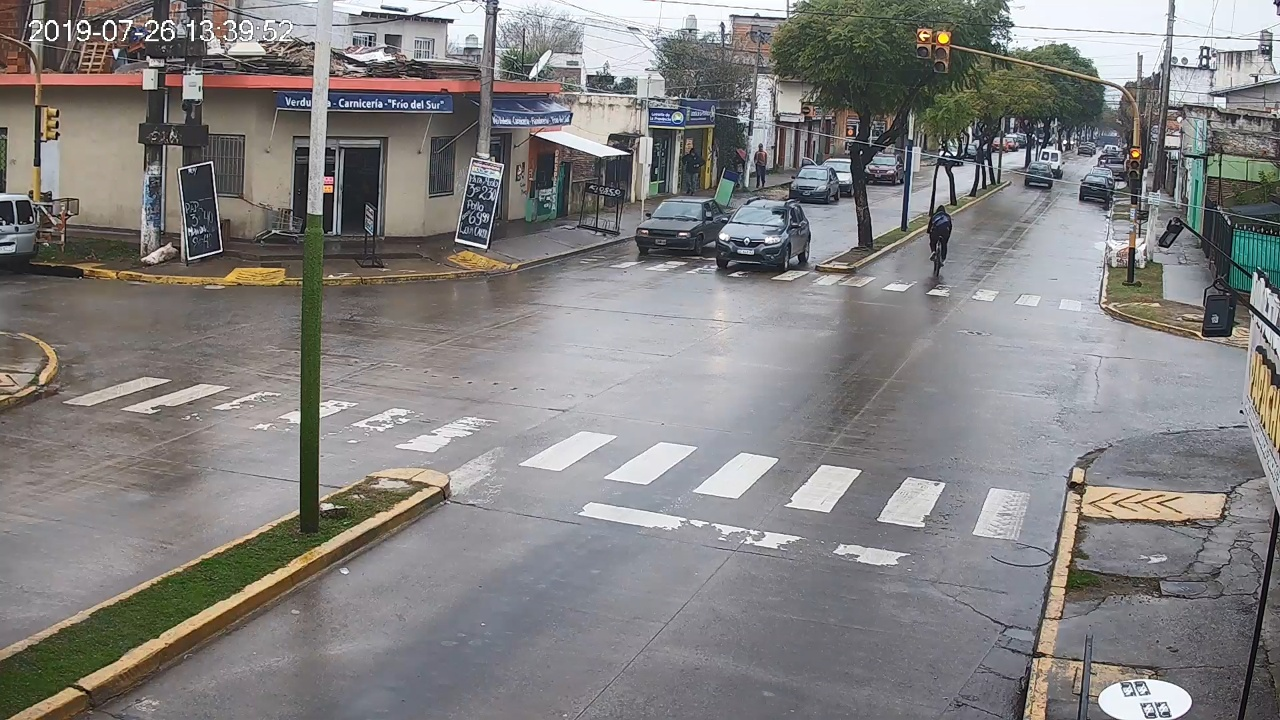bicycle: (927, 205, 952, 279)
front car: (716, 196, 811, 271)
traffic light: (934, 31, 950, 73), (1129, 147, 1140, 179)
